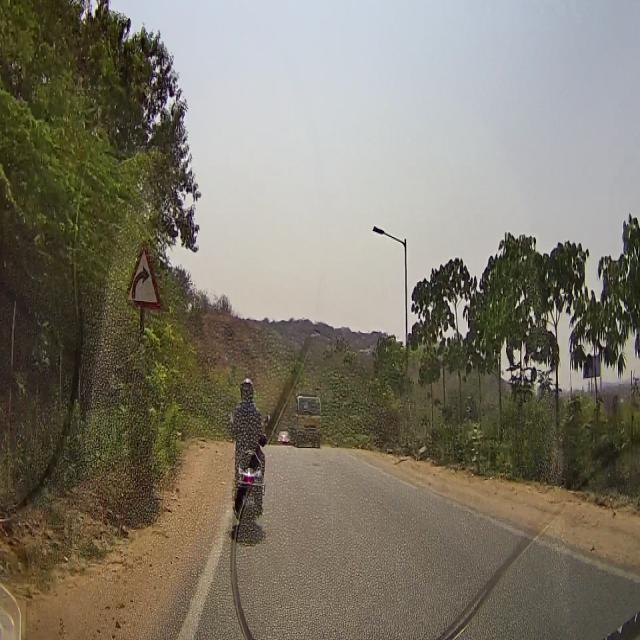motorcycle ahead at: (224, 368, 269, 544)
sign board ahead at: (124, 238, 163, 319)
